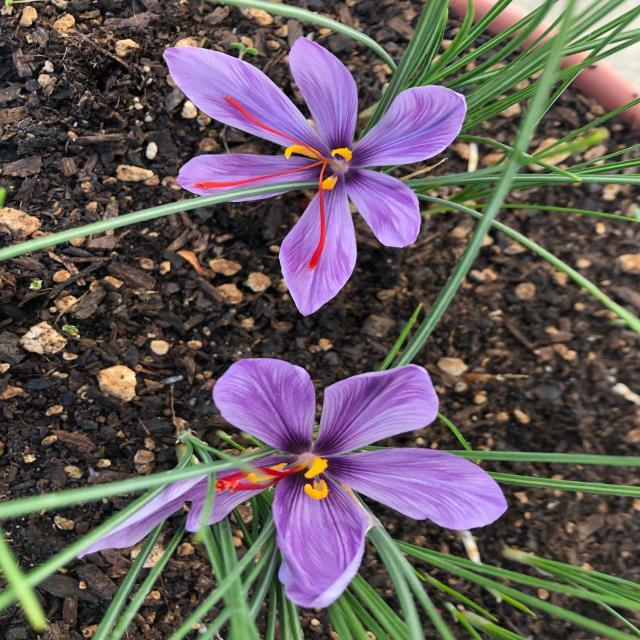Flower: (174, 46, 462, 280), (193, 365, 481, 586)
stigma: (218, 92, 318, 154), (188, 158, 329, 192), (211, 458, 309, 494), (305, 160, 332, 270)
